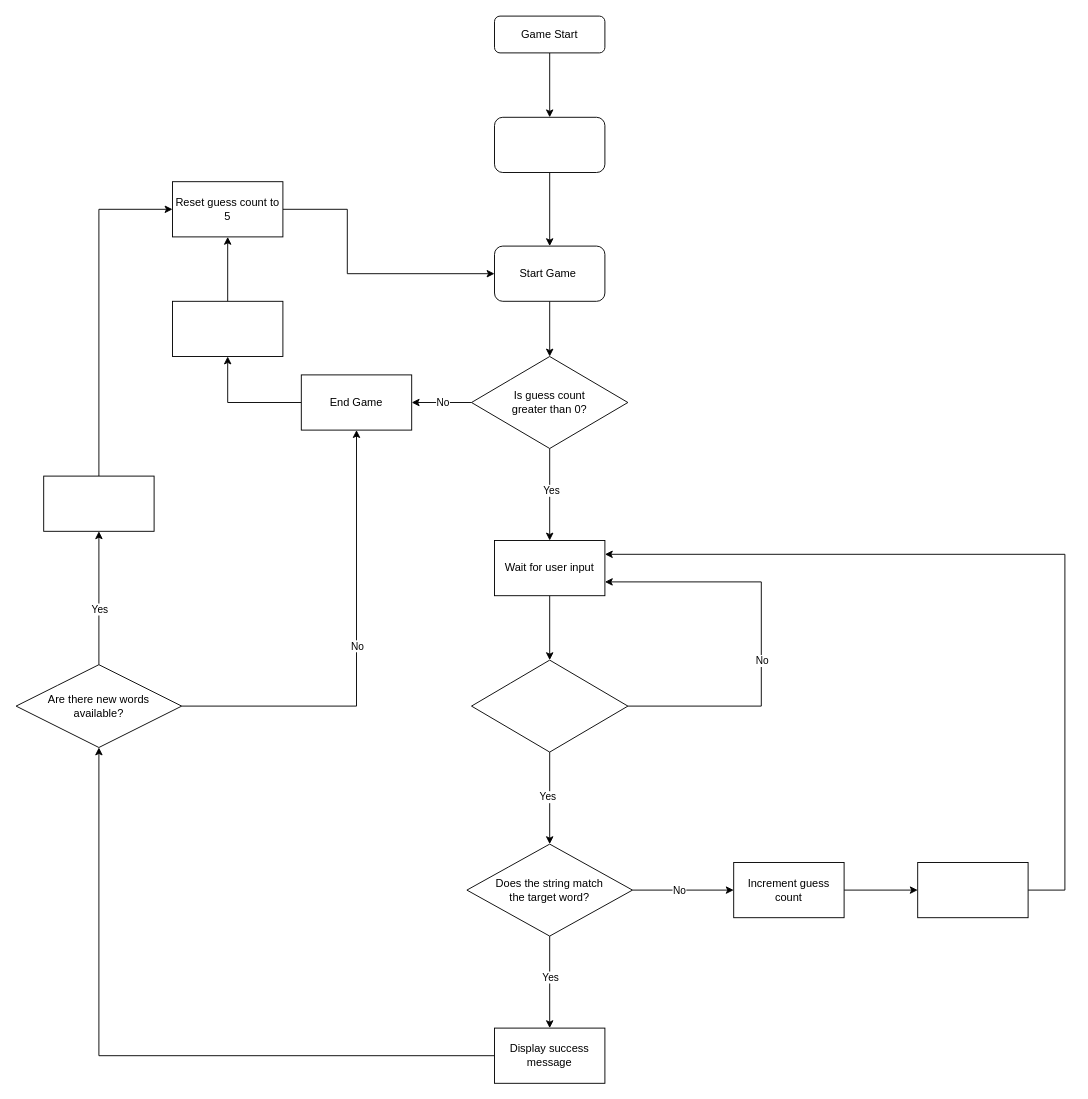
Some shapes in this 1088 by 1099 pixel diagram are drawn without their labels. The shapes that lost their labels are listed below. From the top down, each one's box as (x1, y1, x2, y2) in pixels, then its label:
(494, 116, 605, 172): Read in words from file
(172, 300, 283, 356): Display results
(43, 475, 154, 531): Select new word
(471, 659, 628, 752): Is the user input 5 characters long?
(917, 862, 1028, 918): Display character diffs/matches to user.
